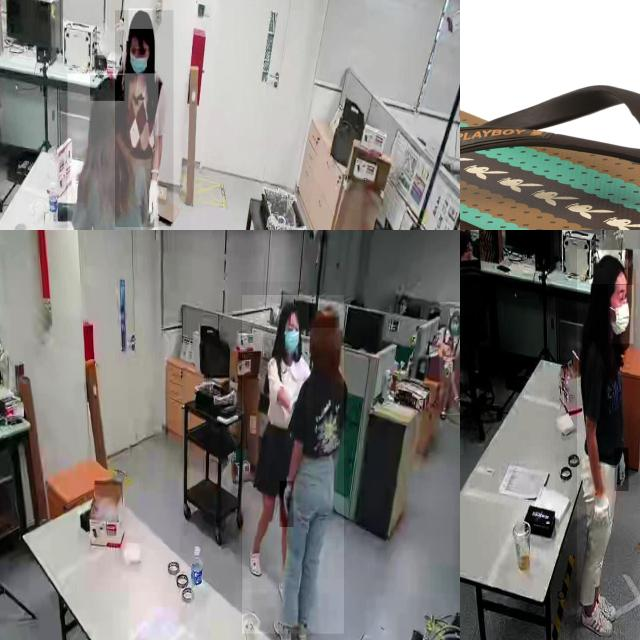Sandals: (460, 82, 640, 230)
face_mask: (608, 285, 634, 343), (282, 318, 299, 352), (131, 49, 149, 75), (451, 314, 460, 337)
hand_glove: (593, 489, 613, 539), (280, 481, 294, 528), (615, 448, 629, 492)
head_nohelmet: (590, 250, 628, 285), (90, 75, 125, 102), (309, 304, 339, 329), (129, 8, 153, 30), (278, 299, 300, 317), (449, 308, 460, 316)
person: (242, 295, 344, 635), (577, 249, 640, 640), (241, 282, 307, 589), (67, 73, 158, 230), (115, 10, 174, 227), (439, 302, 460, 416)
shoes: (579, 602, 613, 640), (588, 588, 618, 623), (270, 616, 297, 640), (292, 612, 312, 640)
